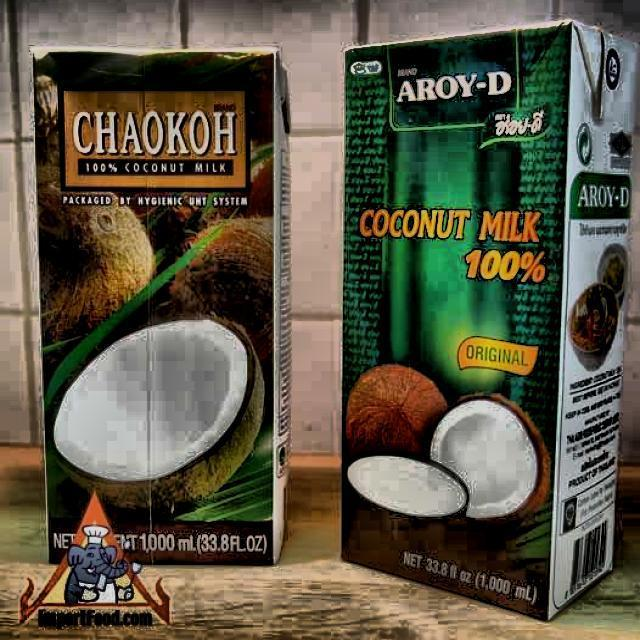cardboard: (338, 18, 639, 622), (30, 44, 292, 566)
